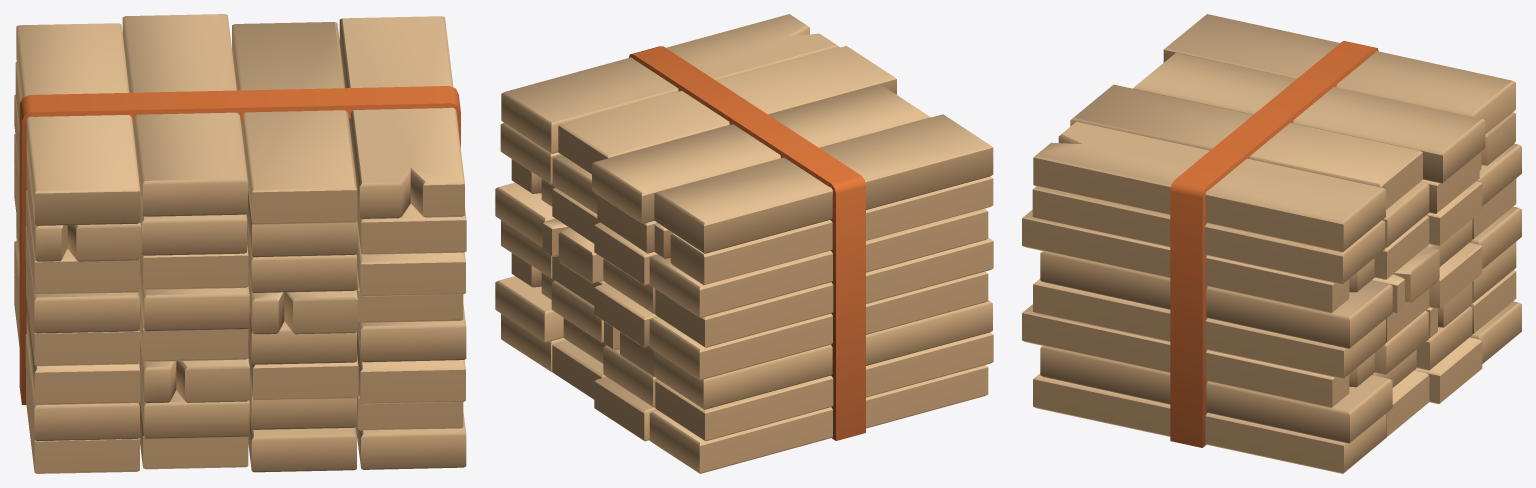
The model's file is building_execution.glb.
The picture shows the model from 3 angles, left to right: view 1: azimuth 30°, elevation 25°; view 2: azimuth 150°, elevation 25°; view 3: azimuth 270°, elevation 25°; orthographic projection. The views are drawn at different scales.
Visible parts, largest first — view 1: Wood_Planks_Stack_Large; view 2: Wood_Planks_Stack_Large; view 3: Wood_Planks_Stack_Large.
Part boxes in pixels (bbox=[...]): Wood_Planks_Stack_Large: bbox=[14, 14, 466, 473]; Wood_Planks_Stack_Large: bbox=[495, 14, 993, 473]; Wood_Planks_Stack_Large: bbox=[1022, 14, 1521, 473].
Size of the model in its own units: 4.8 by 2.73 by 4.8.
1 material, 1 textured.
